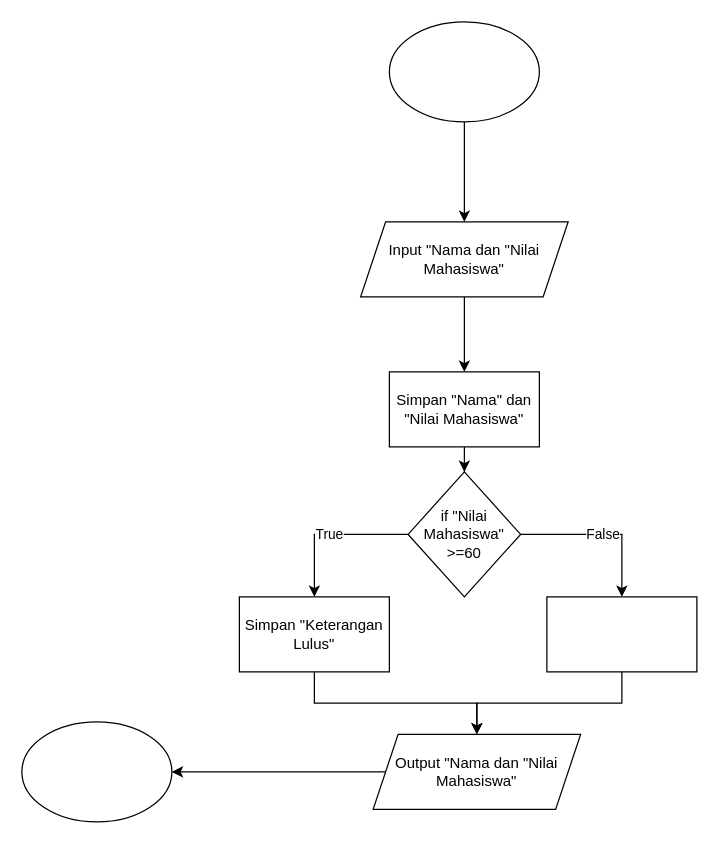
This 719x844 diagram has some shape labels left out. The shapes that lost their labels are listed below. From the top down, each one's centre as x and y in pixels, then its label:
the point at 463,71: Start
the point at 621,634: Simpan "Keterangan Tidak Lulus"
the point at 96,771: End
